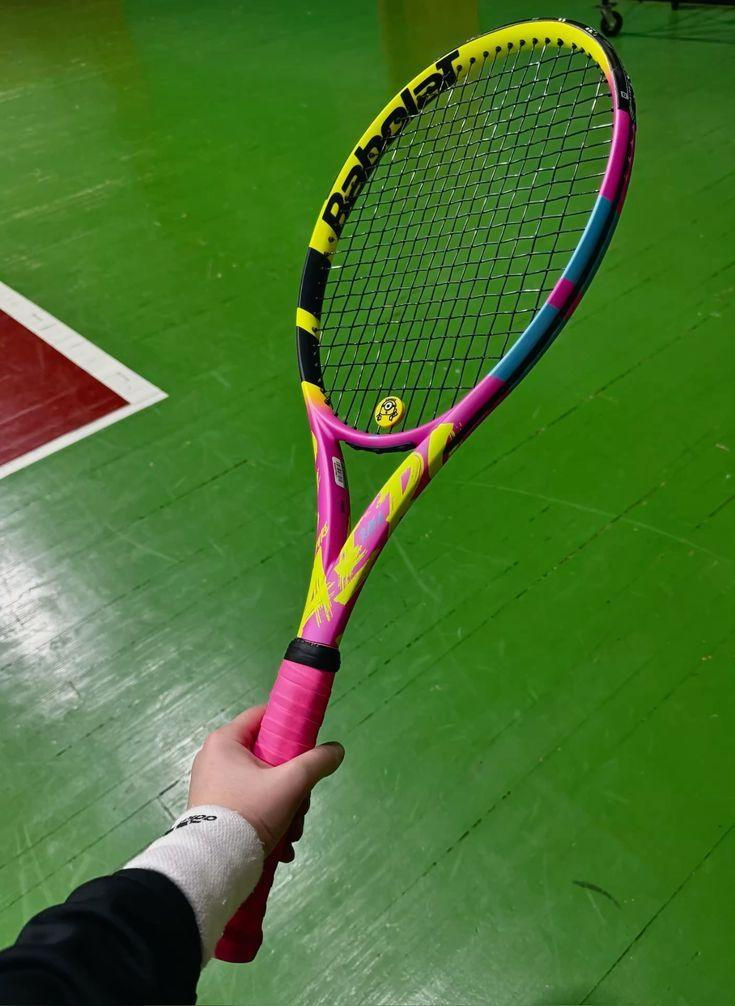Tennis-Racket: (242, 27, 624, 940)
